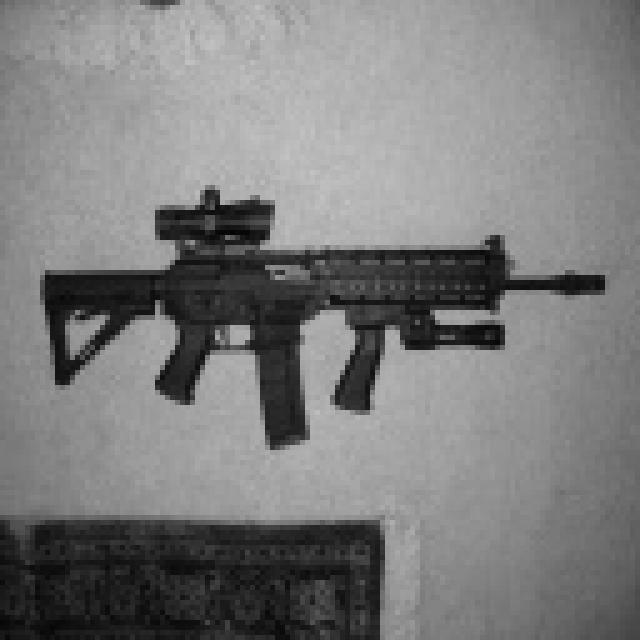Rifle: (15, 145, 640, 480)
